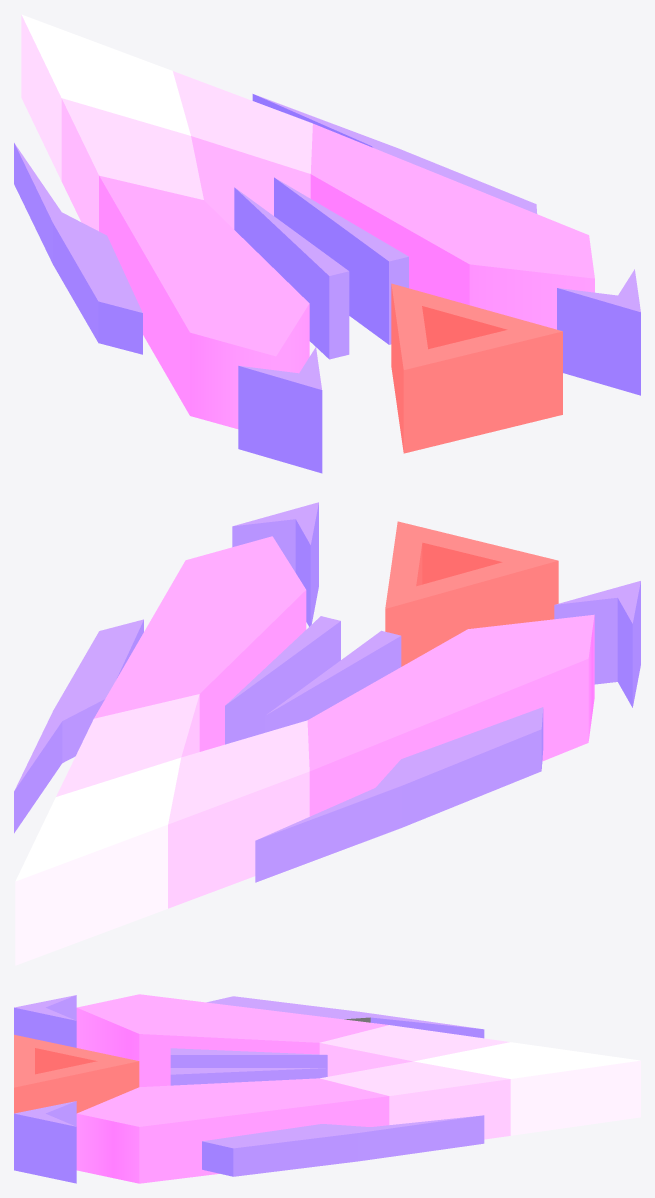
The model's file is corteglow_02.fbx.
3 views of the same model, one above another, from view 1: azimuth 30°, elevation 25°; view 2: azimuth 150°, elevation 25°; view 3: azimuth 270°, elevation 25° (orthographic). The views are drawn at different scales.
Parts seen in each view (by area): view 1: polySurface188; view 2: polySurface188; view 3: polySurface188.
Part boxes in pixels (<box>): polySurface188: <box>14,14,640,473</box>; polySurface188: <box>14,502,640,965</box>; polySurface188: <box>14,994,640,1183</box>.
Size of the model in its own units: 5.5 by 1 by 10.
